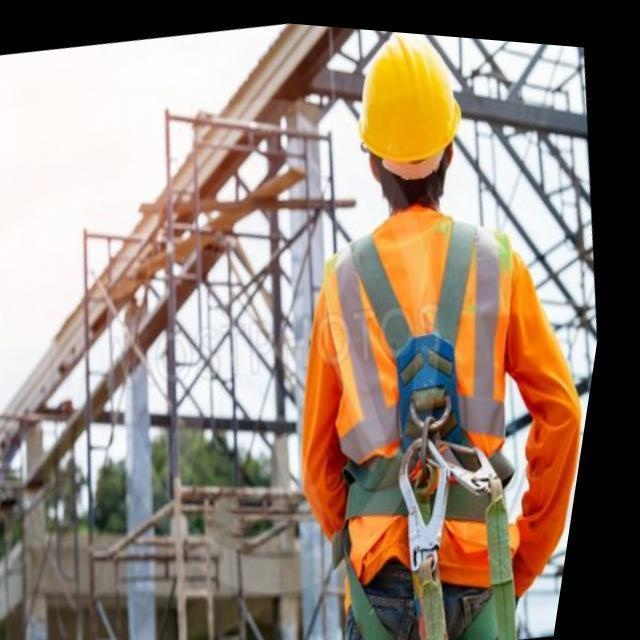Arnes_seguridad: (329, 223, 516, 594)
